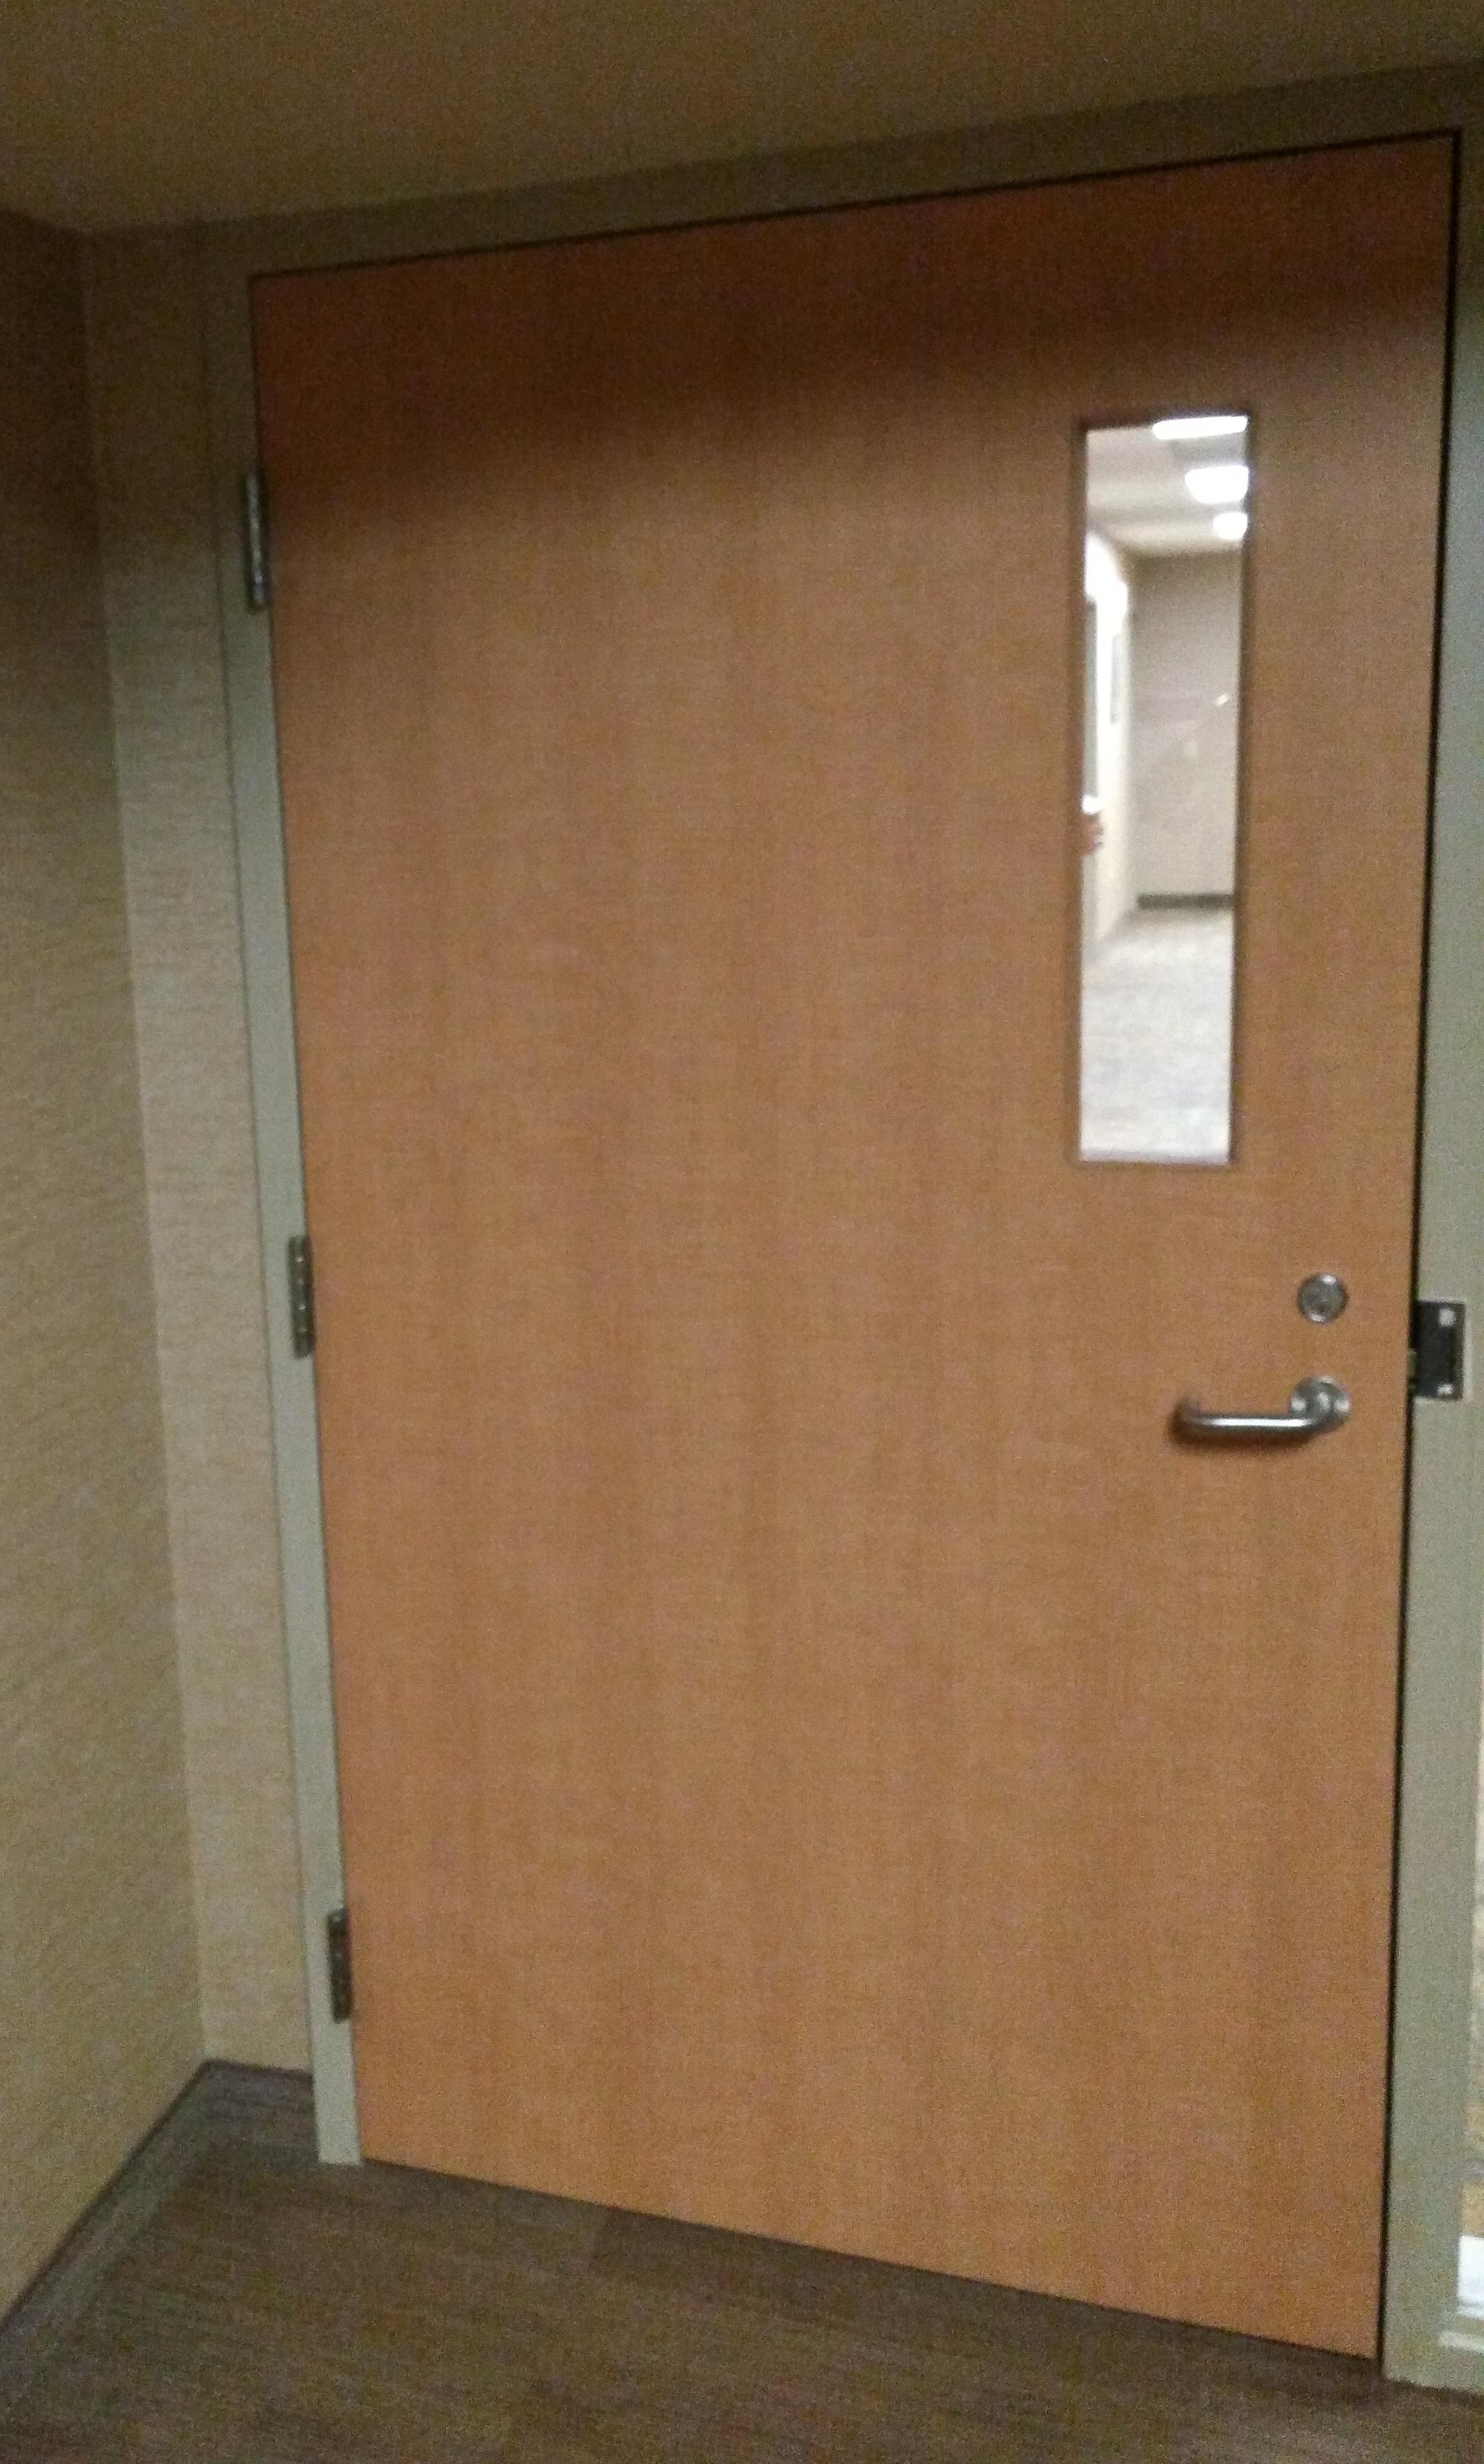door: (222, 257, 1421, 2350)
